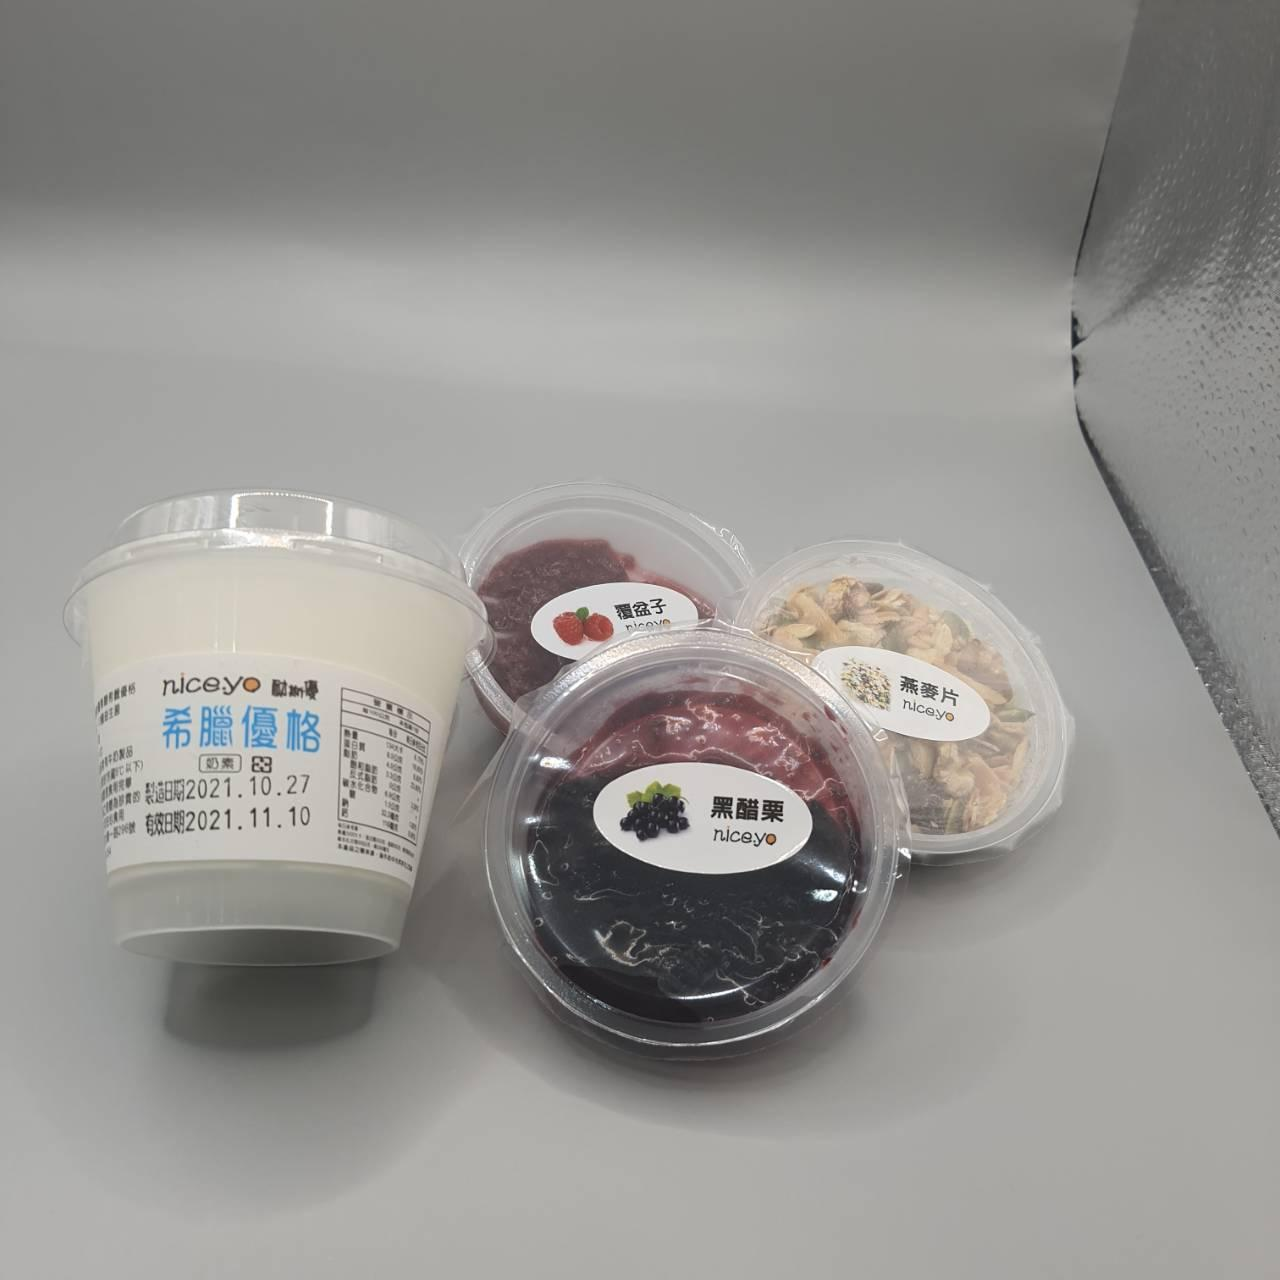plastic: (468, 483, 1076, 1069), (62, 490, 471, 967)
